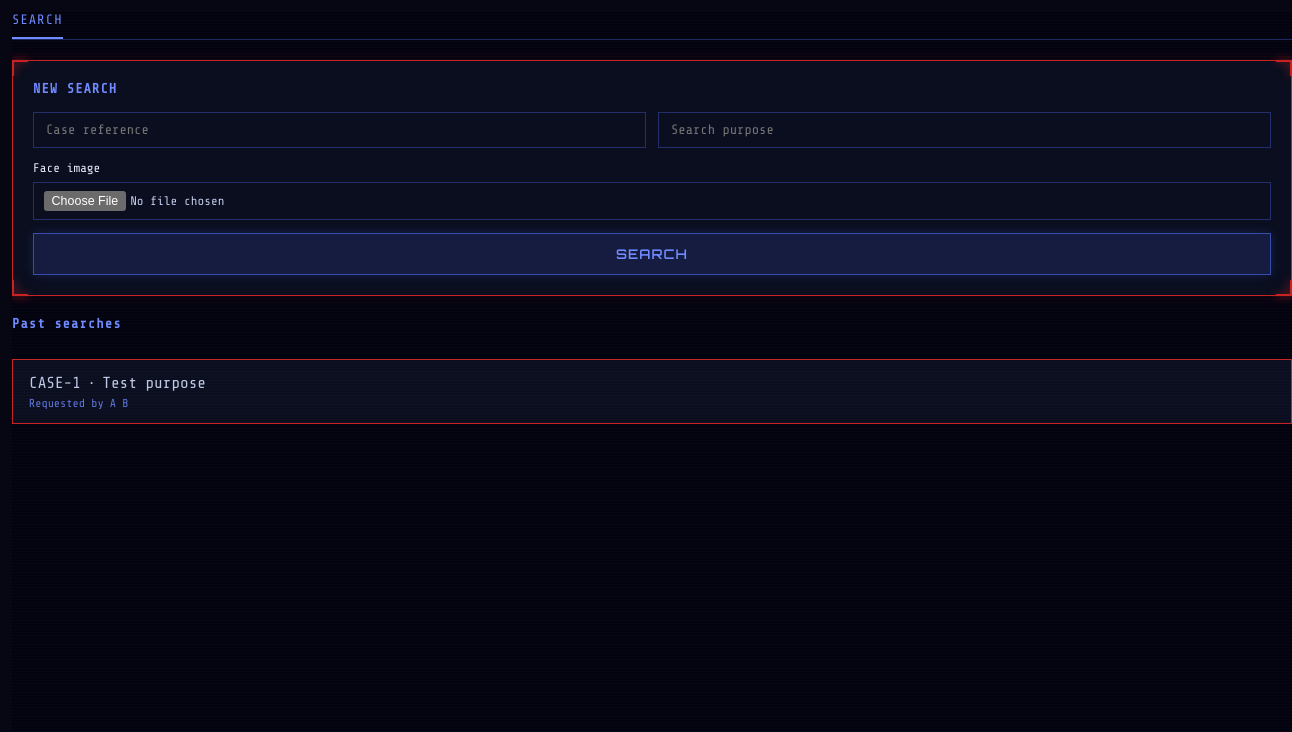
Scenario: DashboardPage › shows a load error, not a false "no candidates", when fetching a search's candidates fails
Click the button "CASE-1 · Test purpose Requested by A B": [55, 383] box [12,359,1291,424]
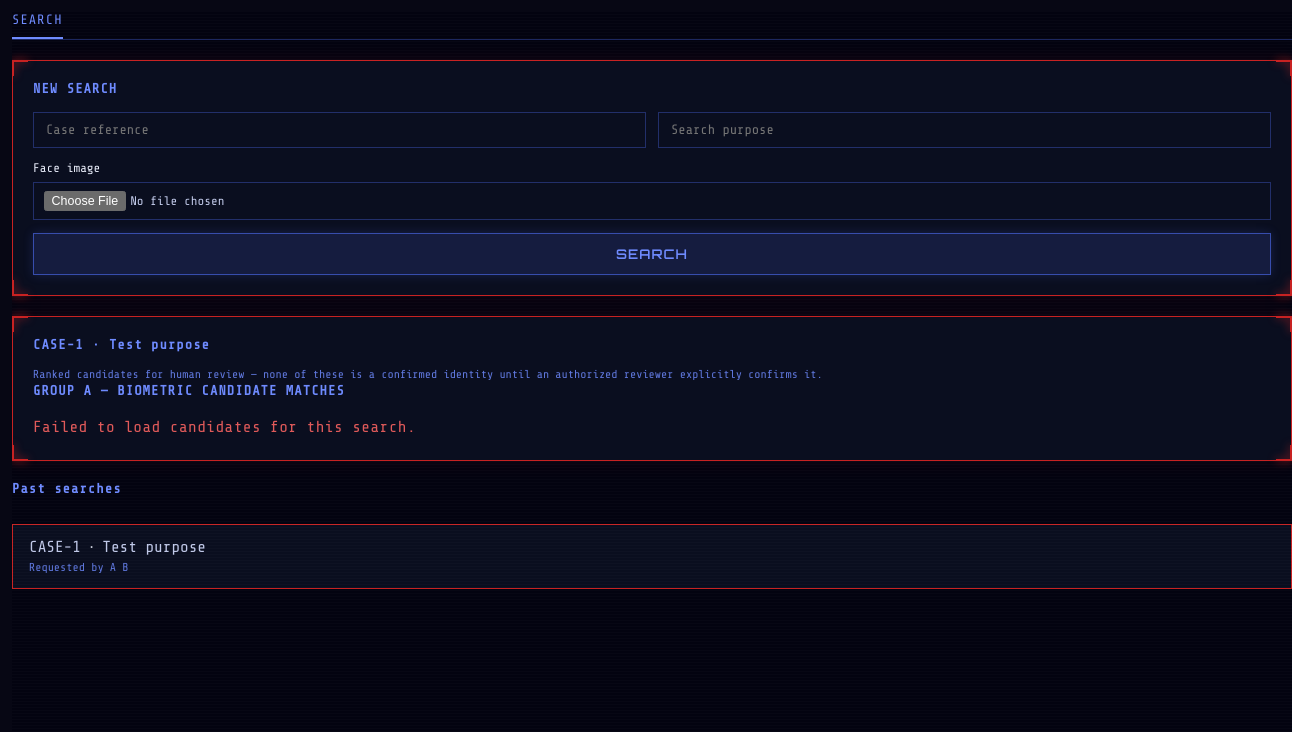
Expected: the text "Failed to load candidates for this search." is shown, [33,418,416,436]
